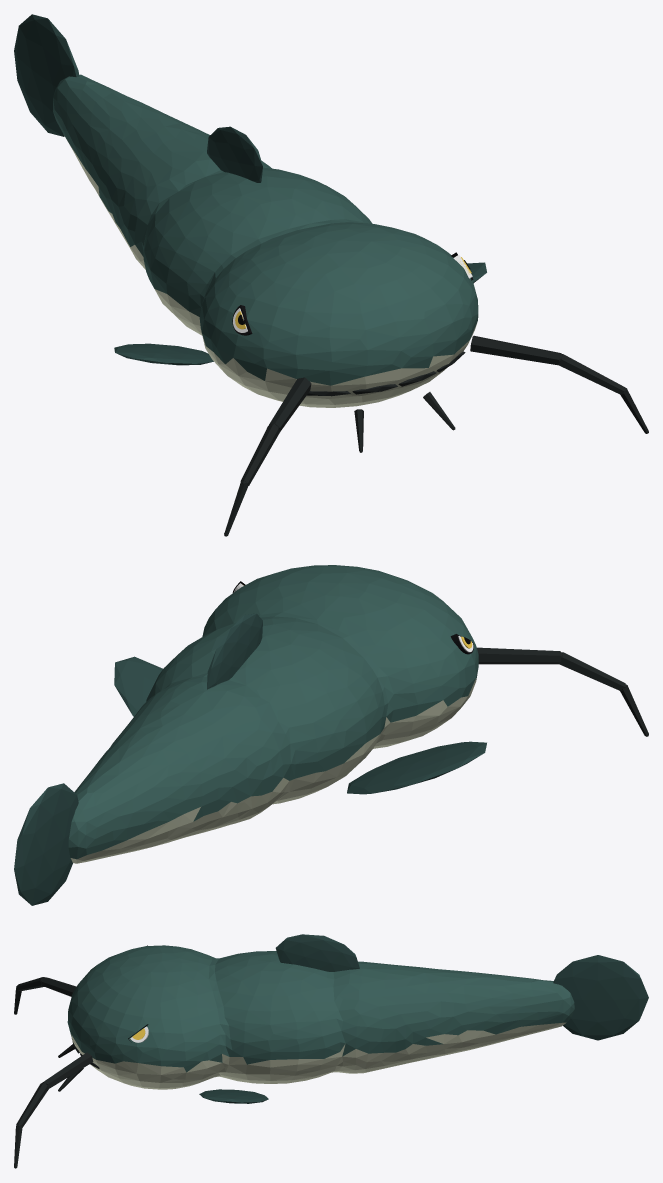
Rendered from catfish.glb.
3 views of the same model, one above another, from view 1: azimuth 30°, elevation 25°; view 2: azimuth 150°, elevation 25°; view 3: azimuth 270°, elevation 25° (orthographic). The views are drawn at different scales.
Visible parts, largest first — view 1: Catfish; view 2: Catfish; view 3: Catfish.
Part boxes in pixels (x1,y1,x2,y2): Catfish: (14, 14, 648, 536); Catfish: (14, 565, 648, 905); Catfish: (14, 934, 648, 1168).
Bounding box in the file's own units: 1.01 × 0.478 × 1.74.
